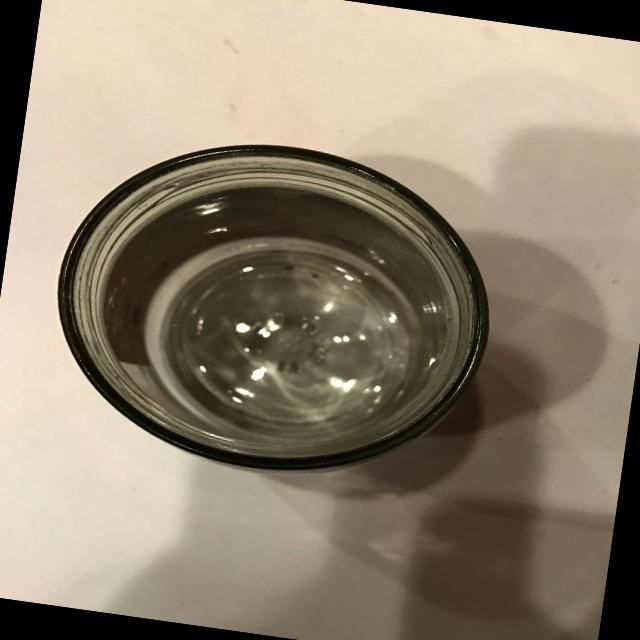Glass: (2, 98, 517, 528)
